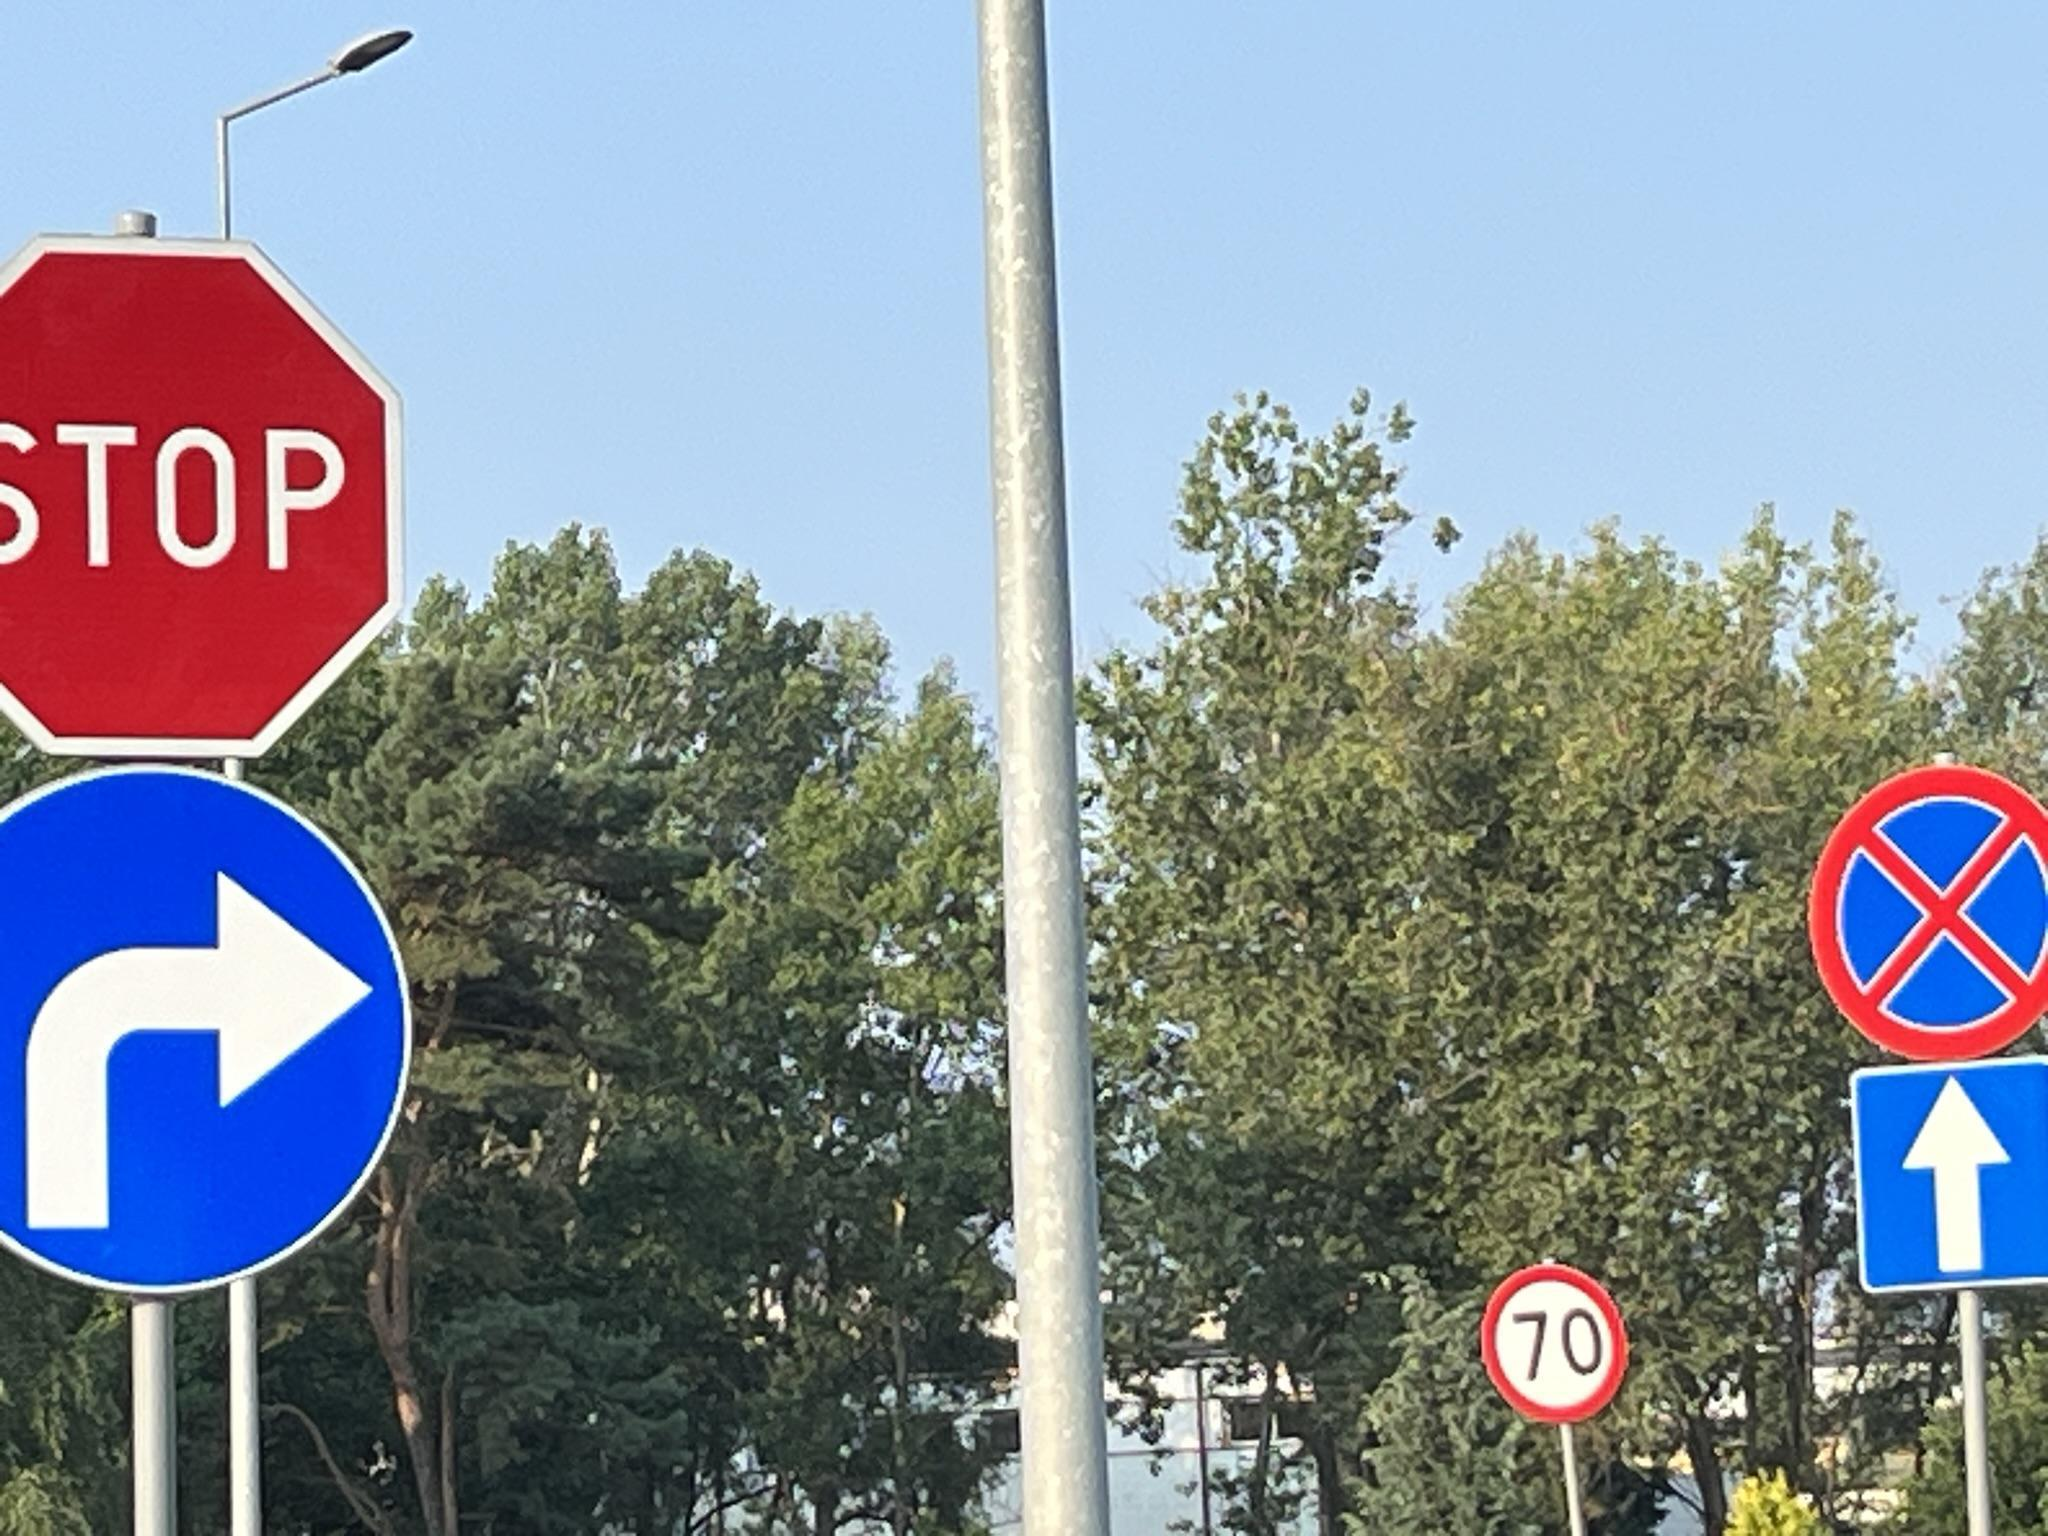information: (1863, 1062, 2048, 1292)
mandatory: (0, 765, 418, 1297)
prohibitory: (0, 232, 408, 760), (1804, 765, 2048, 1066), (1479, 1260, 1632, 1425)
